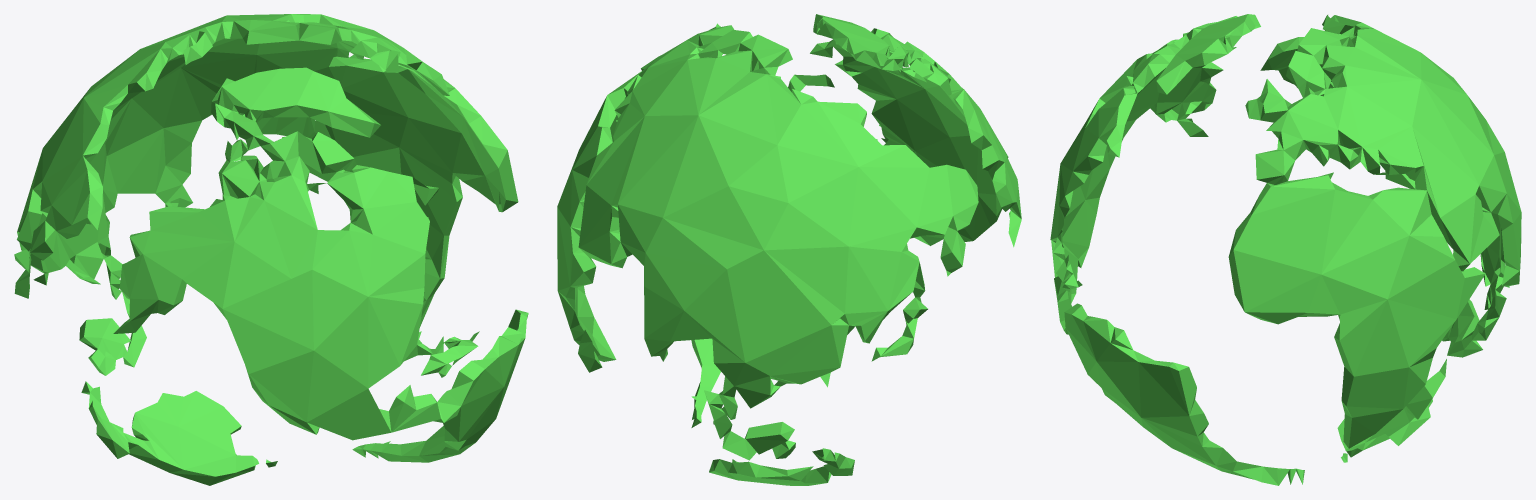
The model's file is low_poly_earth.fbx.
The picture shows the model from 3 angles, left to right: view 1: azimuth 30°, elevation 25°; view 2: azimuth 150°, elevation 25°; view 3: azimuth 270°, elevation 25°; orthographic projection. The views are drawn at different scales.
Visible parts, largest first — view 1: low_poly_earth; view 2: low_poly_earth; view 3: low_poly_earth.
Part boxes in pixels (x1=…): low_poly_earth: x1=14, y1=14, x2=528, y2=485; low_poly_earth: x1=557, y1=14, x2=1021, y2=485; low_poly_earth: x1=1050, y1=14, x2=1521, y2=485.
Size of the model in its own units: 194 by 196 by 199.
